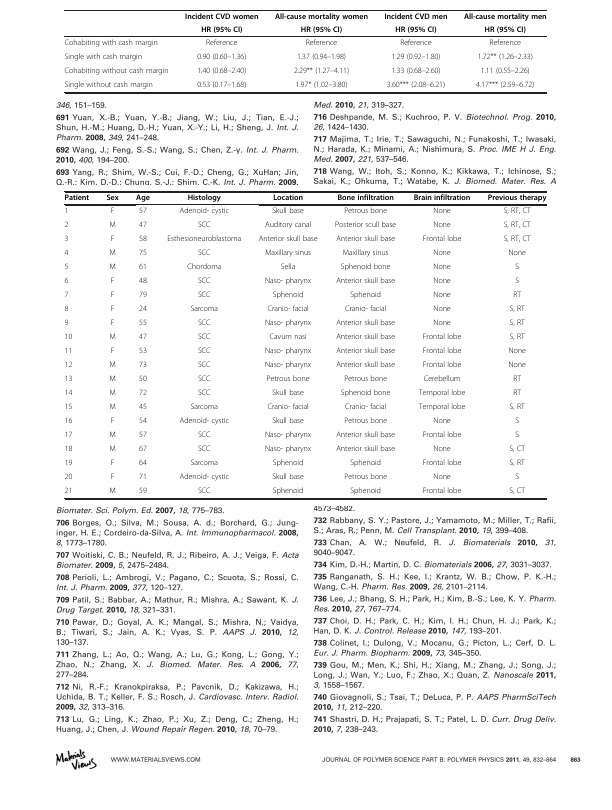borderless: (63, 190, 546, 498), (63, 8, 546, 92)
cell: (63, 66, 169, 76), (63, 38, 159, 48), (64, 80, 154, 90), (274, 12, 369, 21), (63, 52, 143, 62), (166, 235, 242, 245), (463, 12, 547, 21), (184, 12, 259, 21), (334, 221, 397, 231), (335, 235, 396, 245), (335, 277, 396, 287), (335, 319, 396, 329), (335, 333, 396, 343), (335, 347, 396, 357), (335, 361, 396, 371), (335, 431, 396, 441), (335, 445, 396, 455), (386, 80, 446, 90), (475, 80, 535, 90), (258, 235, 318, 245), (383, 12, 448, 21), (477, 52, 534, 62), (293, 66, 350, 76), (294, 80, 348, 90), (487, 194, 547, 203), (336, 194, 395, 203), (413, 194, 471, 203), (178, 207, 230, 217), (178, 417, 230, 427), (178, 473, 230, 483), (196, 52, 247, 62), (296, 52, 347, 62), (390, 52, 441, 62), (196, 66, 247, 76), (390, 66, 441, 76), (480, 66, 531, 76), (196, 80, 247, 90), (340, 263, 391, 273), (340, 389, 391, 399), (264, 221, 312, 231), (264, 249, 312, 259), (264, 277, 312, 287), (264, 319, 312, 329), (264, 347, 312, 357), (264, 361, 312, 371), (418, 389, 466, 399), (418, 403, 466, 413), (264, 431, 312, 441), (264, 445, 312, 455), (342, 249, 389, 259), (343, 207, 388, 217), (343, 375, 388, 385), (343, 417, 388, 427), (343, 473, 388, 483), (266, 305, 310, 315), (266, 375, 310, 385), (266, 403, 310, 413), (200, 25, 243, 35), (300, 25, 343, 35), (394, 25, 437, 35), (484, 25, 527, 35), (344, 305, 387, 315), (344, 403, 387, 413), (422, 235, 462, 245), (268, 333, 308, 343), (422, 333, 462, 343), (422, 347, 462, 357), (422, 361, 462, 371), (422, 431, 462, 441), (422, 459, 462, 469), (422, 487, 462, 497), (423, 375, 461, 385), (186, 263, 222, 273), (399, 38, 433, 48), (488, 38, 522, 48), (271, 207, 305, 217), (271, 389, 305, 399), (271, 417, 305, 427), (271, 473, 305, 483), (205, 38, 238, 48), (305, 38, 338, 48), (349, 291, 382, 301), (349, 459, 382, 469), (349, 487, 382, 497), (272, 291, 304, 301), (272, 459, 304, 469), (272, 487, 304, 497), (187, 194, 222, 203), (189, 305, 219, 315), (189, 403, 219, 413), (189, 459, 219, 469), (503, 207, 532, 217), (503, 221, 532, 231), (503, 235, 532, 245), (272, 194, 304, 203), (64, 194, 90, 203), (432, 207, 452, 217), (432, 221, 452, 231), (432, 249, 452, 259), (507, 249, 527, 259), (432, 263, 452, 273), (432, 277, 452, 287), (432, 291, 452, 301), (432, 305, 452, 315), (432, 319, 452, 329), (507, 347, 527, 357), (507, 361, 527, 371), (432, 417, 452, 427), (432, 445, 452, 455), (432, 473, 452, 483), (508, 445, 526, 455), (508, 487, 526, 497), (509, 305, 526, 315), (509, 319, 526, 329), (509, 333, 526, 343), (509, 403, 526, 413), (509, 459, 526, 469), (280, 263, 296, 273), (135, 194, 151, 203), (197, 221, 211, 231), (197, 249, 211, 259), (197, 277, 211, 287), (197, 291, 211, 301), (197, 319, 211, 329), (197, 333, 211, 343), (197, 347, 211, 357), (197, 361, 211, 371), (197, 375, 211, 385), (197, 389, 211, 399), (197, 431, 211, 441), (197, 445, 211, 455), (197, 487, 211, 497), (105, 194, 120, 203), (138, 207, 148, 217), (138, 221, 148, 231), (138, 235, 148, 245), (138, 249, 148, 259), (138, 263, 148, 273), (138, 277, 148, 287), (138, 291, 148, 301), (512, 291, 522, 301), (138, 305, 148, 315), (138, 319, 148, 329), (138, 333, 148, 343), (138, 347, 148, 357), (138, 361, 148, 371), (138, 375, 148, 385), (512, 375, 522, 385), (138, 389, 148, 399), (512, 389, 522, 399), (138, 403, 148, 413), (138, 417, 148, 427), (138, 431, 148, 441), (138, 445, 148, 455), (138, 459, 148, 469), (138, 473, 148, 483), (138, 487, 148, 497), (108, 221, 117, 231), (108, 249, 117, 259), (108, 263, 117, 273), (64, 333, 73, 343), (108, 333, 117, 343), (64, 347, 73, 357), (64, 361, 73, 371), (108, 361, 117, 371), (64, 375, 73, 385), (108, 375, 117, 385), (64, 389, 73, 399), (108, 389, 117, 399), (64, 403, 73, 413), (108, 403, 117, 413), (64, 417, 73, 427), (64, 431, 73, 441), (108, 431, 117, 441), (64, 445, 73, 455), (108, 445, 117, 455), (64, 459, 73, 469), (64, 473, 73, 483), (64, 487, 73, 497), (108, 487, 117, 497), (514, 263, 520, 273), (514, 277, 520, 287), (514, 417, 520, 427), (514, 431, 520, 441), (514, 473, 520, 483), (64, 207, 69, 217), (110, 207, 115, 217), (64, 221, 69, 231), (64, 235, 69, 245), (110, 235, 115, 245), (64, 249, 69, 259), (64, 263, 69, 273), (64, 277, 69, 287), (110, 277, 115, 287), (64, 291, 69, 301), (110, 291, 115, 301), (64, 305, 69, 315), (110, 305, 115, 315), (64, 319, 69, 329), (110, 319, 115, 329), (110, 347, 115, 357), (110, 417, 115, 427), (110, 459, 115, 469), (110, 473, 115, 483)
